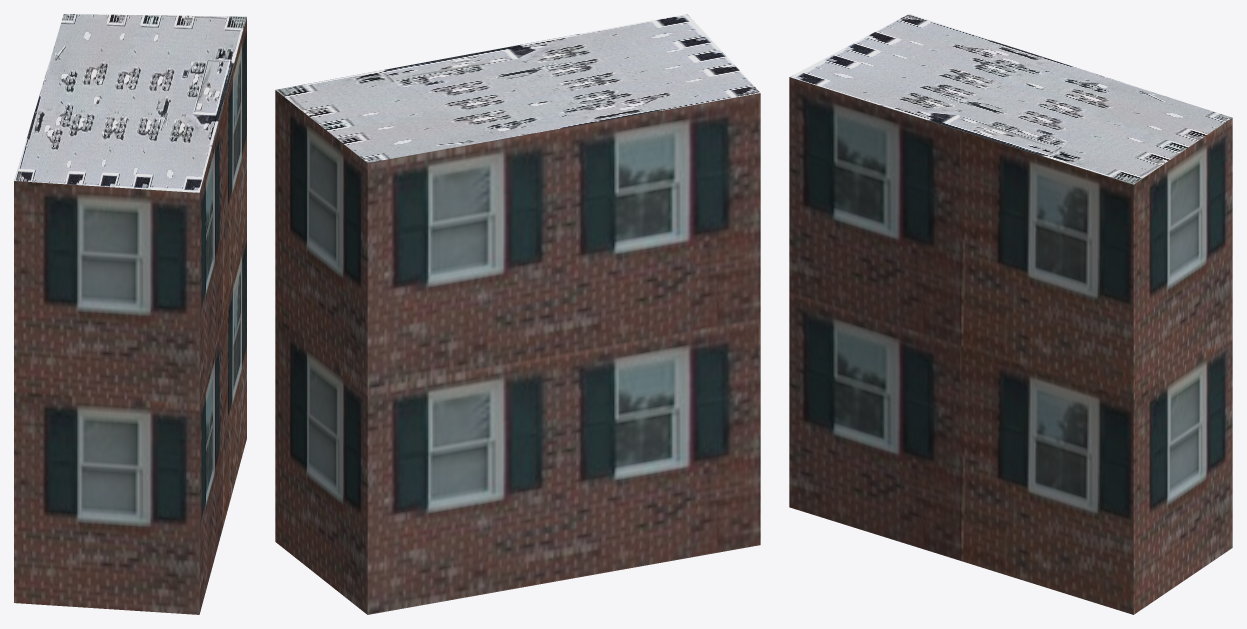
File: ResTex__3531.fbx
3 renders of one model, left to right at view 1: azimuth 30°, elevation 25°; view 2: azimuth 150°, elevation 25°; view 3: azimuth 270°, elevation 25°, orthographic. The views are drawn at different scales.
Visible parts, largest first — view 1: CityEngineMaterial_14_m, CityEngineMaterial_8_m; view 2: CityEngineMaterial_14_m, CityEngineMaterial_8_m; view 3: CityEngineMaterial_14_m, CityEngineMaterial_8_m.
Boxes of the visible parts, bbox=[...] form: CityEngineMaterial_14_m: bbox=[14, 17, 246, 614]; CityEngineMaterial_8_m: bbox=[14, 14, 246, 192]; CityEngineMaterial_14_m: bbox=[275, 90, 760, 614]; CityEngineMaterial_8_m: bbox=[275, 14, 759, 162]; CityEngineMaterial_14_m: bbox=[789, 77, 1232, 614]; CityEngineMaterial_8_m: bbox=[790, 14, 1231, 184].
Size of the model in its own units: 5.11 by 6 by 5.6.
Materials: 2 (2 with a texture image).
